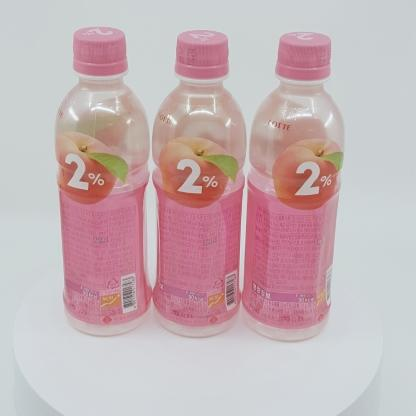--2_---350ML: (242, 32, 346, 343), (53, 26, 153, 337), (153, 29, 247, 338)
